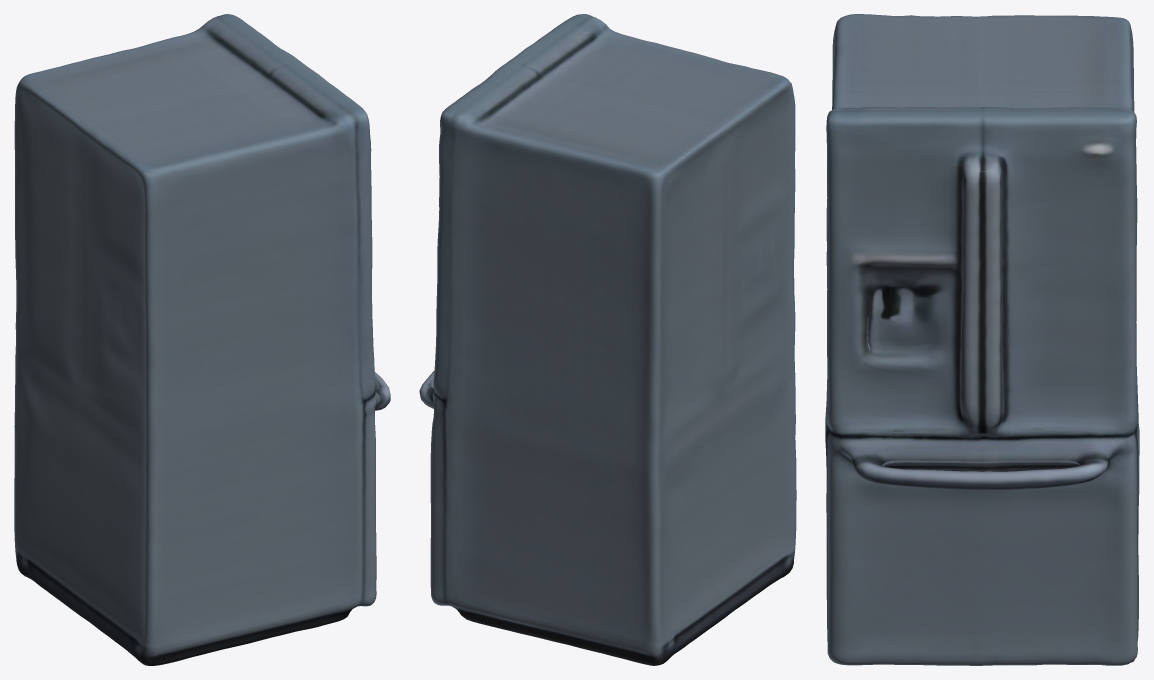
File: fridge.glb
The picture shows the model from 3 angles, left to right: view 1: azimuth 30°, elevation 25°; view 2: azimuth 150°, elevation 25°; view 3: azimuth 270°, elevation 25°; orthographic projection. The views are drawn at different scales.
Visible parts, largest first — view 1: mesh; view 2: mesh; view 3: mesh.
Boxes of the visible parts, bbox=[...] form: mesh: bbox=[14, 14, 390, 665]; mesh: bbox=[419, 14, 796, 665]; mesh: bbox=[825, 14, 1139, 665].
Size of the model in its own units: 0.564 by 0.9998 by 0.5122.
1 material, 1 textured.
